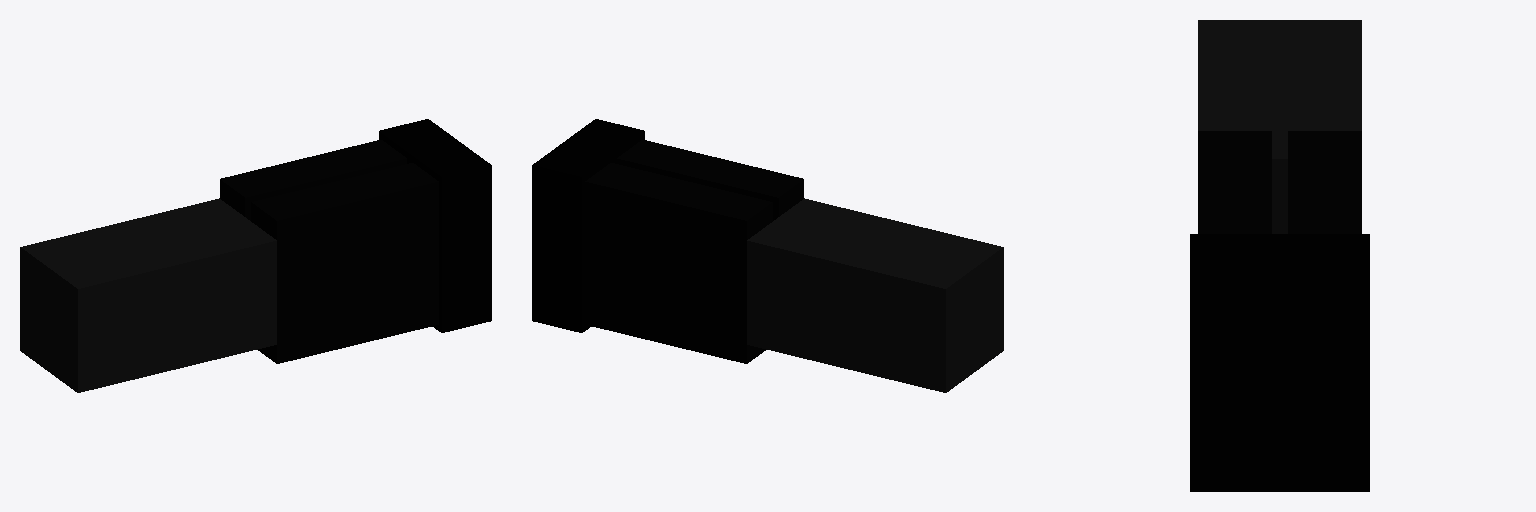
robot.urdf — task319_two_finger_gripper:
<?xml version="1.0"?>
<robot name="task319_two_finger_gripper">
  <link name="gripper_base">
    <inertial>
      <origin xyz="0 0 0"/>
      <mass value="0.30"/>
      <inertia ixx="0.000080" ixy="0" ixz="0" iyy="0.000200" iyz="0" izz="0.000200"/>
    </inertial>
    <visual>
      <origin xyz="0 0 0"/>
      <geometry><box size="0.08 0.04 0.04"/></geometry>
      <material name="dark_gray"><color rgba="0.08 0.08 0.08 1.0"/></material>
    </visual>
    <collision>
      <origin xyz="0 0 0"/>
      <geometry><box size="0.08 0.04 0.04"/></geometry>
    </collision>
  </link>

  <link name="left_finger">
    <inertial>
      <origin xyz="0.035 0 0"/>
      <mass value="0.08"/>
      <inertia ixx="0.000023" ixy="0" ixz="0" iyy="0.000056" iyz="0" izz="0.000035"/>
    </inertial>
    <visual>
      <origin xyz="0.035 0 0"/>
      <geometry><box size="0.07 0.018 0.055"/></geometry>
      <material name="rubber"><color rgba="0.02 0.02 0.02 1.0"/></material>
    </visual>
    <collision>
      <origin xyz="0.035 0 0"/>
      <geometry><box size="0.07 0.018 0.055"/></geometry>
    </collision>
    <visual>
      <origin xyz="0.075 0 0"/>
      <geometry><box size="0.020 0.022 0.060"/></geometry>
      <material name="rubber_pad"><color rgba="0.01 0.01 0.01 1.0"/></material>
    </visual>
    <collision>
      <origin xyz="0.075 0 0"/>
      <geometry><box size="0.020 0.022 0.060"/></geometry>
    </collision>
  </link>

  <link name="right_finger">
    <inertial>
      <origin xyz="0.035 0 0"/>
      <mass value="0.08"/>
      <inertia ixx="0.000023" ixy="0" ixz="0" iyy="0.000056" iyz="0" izz="0.000035"/>
    </inertial>
    <visual>
      <origin xyz="0.035 0 0"/>
      <geometry><box size="0.07 0.018 0.055"/></geometry>
      <material name="rubber"><color rgba="0.02 0.02 0.02 1.0"/></material>
    </visual>
    <collision>
      <origin xyz="0.035 0 0"/>
      <geometry><box size="0.07 0.018 0.055"/></geometry>
    </collision>
    <visual>
      <origin xyz="0.075 0 0"/>
      <geometry><box size="0.020 0.022 0.060"/></geometry>
      <material name="rubber_pad"><color rgba="0.01 0.01 0.01 1.0"/></material>
    </visual>
    <collision>
      <origin xyz="0.075 0 0"/>
      <geometry><box size="0.020 0.022 0.060"/></geometry>
    </collision>
  </link>

  <joint name="left_finger_joint" type="prismatic">
    <parent link="gripper_base"/>
    <child link="left_finger"/>
    <origin xyz="0.04 0.011 0"/>
    <axis xyz="0 1 0"/>
    <limit lower="0.0" upper="0.060" effort="70" velocity="0.18"/>
  </joint>

  <joint name="right_finger_joint" type="prismatic">
    <parent link="gripper_base"/>
    <child link="right_finger"/>
    <origin xyz="0.04 -0.011 0"/>
    <axis xyz="0 -1 0"/>
    <limit lower="0.0" upper="0.060" effort="70" velocity="0.18"/>
  </joint>
  <gazebo reference="left_finger"><mu1>1.8</mu1><mu2>1.6</mu2><kp>100000</kp><kd>10</kd></gazebo>
  <gazebo reference="right_finger"><mu1>1.8</mu1><mu2>1.6</mu2><kp>100000</kp><kd>10</kd></gazebo>
</robot>

--- What the picture shows (computed from the rendered views, not written in the file) ---
3 views of the same robot in one strip: view 1: azimuth 30°, elevation 25°; view 2: azimuth 150°, elevation 25°; view 3: azimuth 270°, elevation 25° (orthographic).
Model task319_two_finger_gripper with 3 links and 2 joints (2 prismatic), rooted at gripper_base, posed every joint at zero.
Visible links, largest first — view 1: right_finger, gripper_base, left_finger; view 2: left_finger, gripper_base, right_finger; view 3: left_finger, right_finger, gripper_base.
Link boxes in pixels (x1,y1,x2,y2): right_finger: (251,142,491,363); gripper_base: (20,198,276,392); left_finger: (220,119,458,220); left_finger: (532,142,772,363); gripper_base: (747,198,1003,392); right_finger: (565,119,803,220); left_finger: (1280,131,1369,491); right_finger: (1190,131,1279,491); gripper_base: (1198,20,1361,233).
Size in the robot's own frame: 0.165 by 0.044 by 0.06 metres.
Geometry: primitives only (box / cylinder / sphere), no mesh files.
